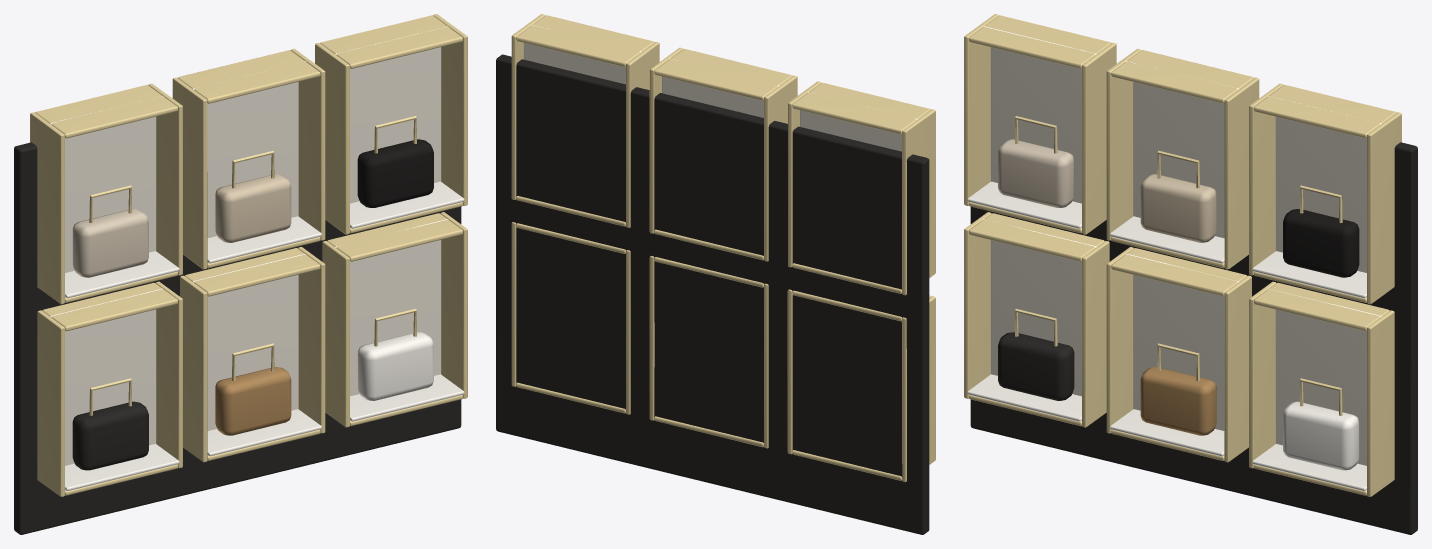
File: bag_shelf_wall.glb
The picture shows the model from 3 angles, left to right: view 1: azimuth 30°, elevation 25°; view 2: azimuth 150°, elevation 25°; view 3: azimuth 330°, elevation 25°; orthographic projection. The views are drawn at different scales.
Visible parts, largest first — view 1: bag_shelf_wall; view 2: bag_shelf_wall; view 3: bag_shelf_wall.
Part boxes in pixels (box(x1,y1,x2,y2)): bag_shelf_wall: box(14, 14, 467, 534); bag_shelf_wall: box(496, 14, 935, 534); bag_shelf_wall: box(964, 14, 1417, 534).
Size of the model in its own units: 1.8 by 1.61 by 0.23.
